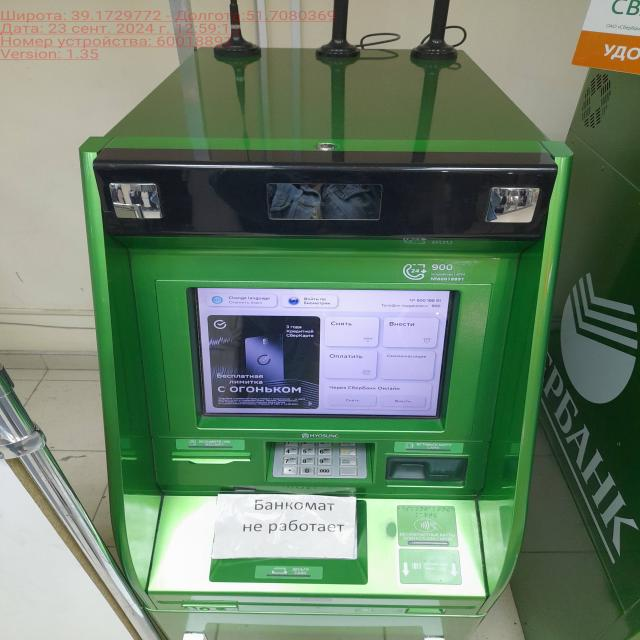bank: (78, 40, 565, 640), (504, 37, 640, 640)
